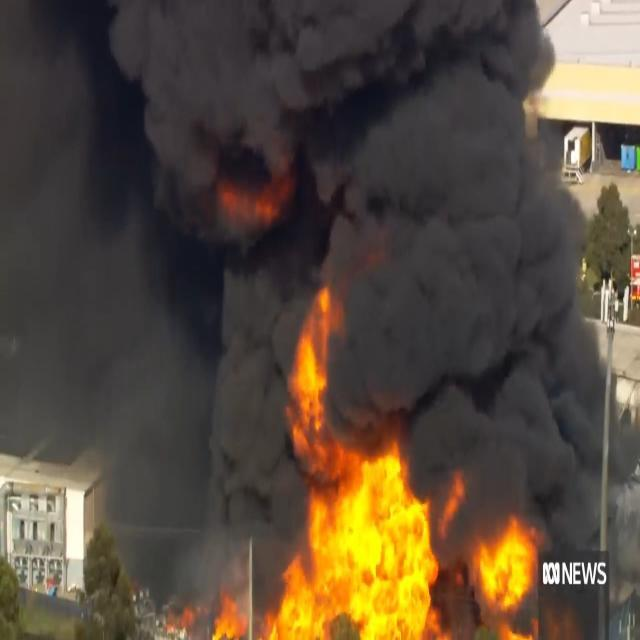fire: (150, 448, 545, 638), (281, 278, 345, 443), (224, 158, 298, 212)
